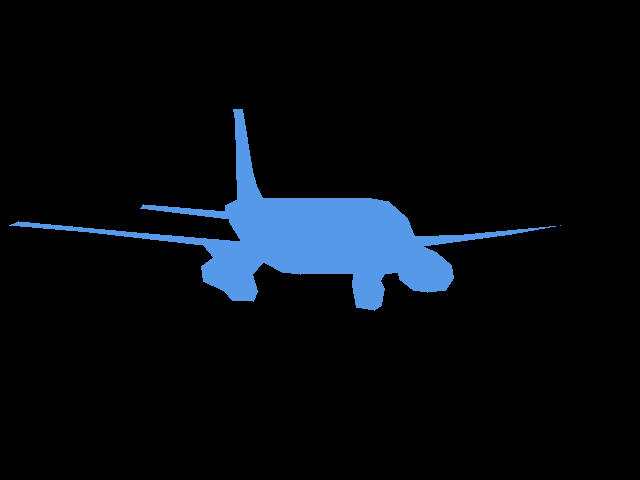Airplane: (9, 109, 561, 311)
